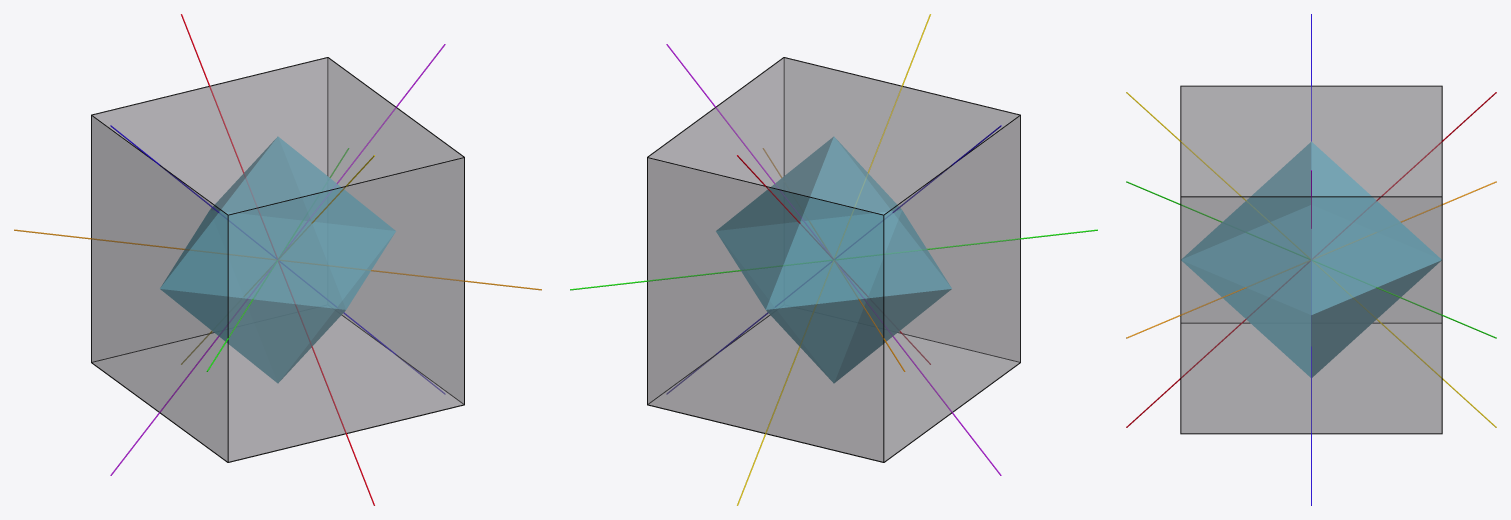
File: Hexa_tetra_3.glb
3 renders of one model, left to right at view 1: azimuth 30°, elevation 25°; view 2: azimuth 150°, elevation 25°; view 3: azimuth 270°, elevation 25°, orthographic. The views are drawn at different scales.
Visible parts, largest first — view 1: Cube, Solid, Cube.001, Cylinder.005, Cylinder.002, Cylinder; view 2: Cube, Solid, Cube.001, Cylinder.004, Cylinder.003, Cylinder; view 3: Cube, Solid, Cube.001, Cylinder.002, Cylinder.003, Cylinder.004, Cylinder.005.
Boxes of the visible parts, box(x1,y1,x2,y2) form: Cube: box(91, 58, 463, 461); Solid: box(160, 136, 395, 383); Cube.001: box(91, 57, 464, 462); Cylinder.005: box(14, 229, 541, 290); Cylinder.002: box(181, 14, 374, 505); Cylinder: box(110, 44, 445, 475); Cube: box(648, 58, 1020, 461); Solid: box(716, 136, 951, 383); Cube.001: box(647, 57, 1020, 462); Cylinder.004: box(570, 229, 1097, 290); Cylinder.003: box(737, 14, 930, 505); Cylinder: box(666, 44, 1001, 475); Cube: box(1181, 86, 1441, 433); Solid: box(1181, 141, 1441, 377); Cube.001: box(1180, 85, 1442, 434); Cylinder.002: box(1126, 92, 1496, 427); Cylinder.003: box(1126, 92, 1496, 427); Cylinder.004: box(1126, 181, 1496, 338); Cylinder.005: box(1126, 181, 1496, 338).
Bounding box in the file's own units: 2.84 × 2.84 × 2.84.
